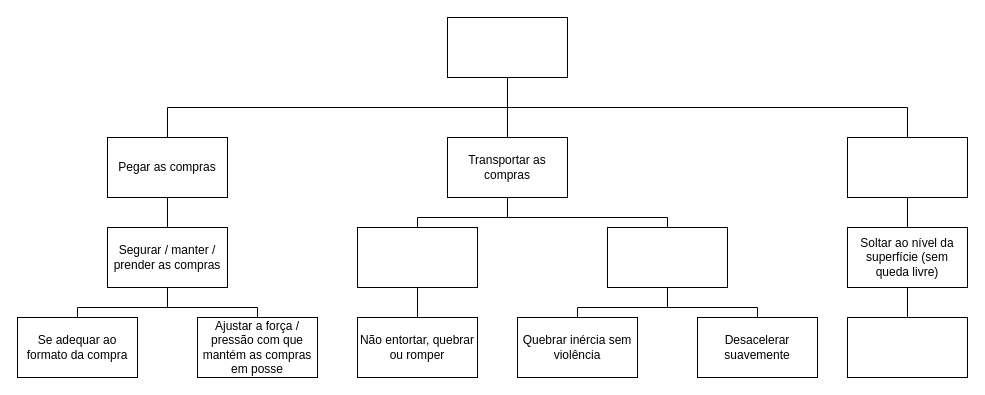
Some shapes in this 985 by 395 pixel diagram are drawn without their labels. Here are the shapes that lost their labels. From the top down, the centre of each, then its label:
At (507,47): "Carregar compras".
At (907,167): "Colocar as compras".
At (417,257): "Suportar o peso das compras".
At (667,257): "Mover as compras em velocidade constante".
At (907,347): "Não empilhar os itens".
